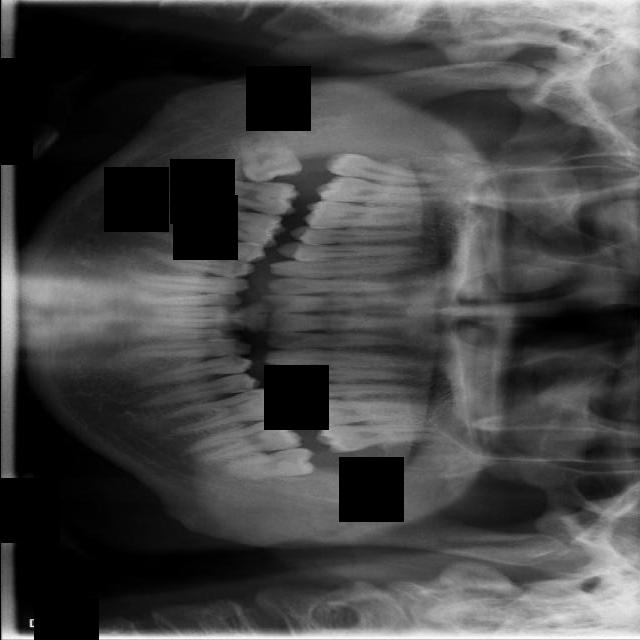3M ESPE Implant: (323, 150, 439, 192)
73: (10, 626, 19, 632)
BioHorizons Implant: (313, 419, 453, 454)
Biomet 3i Implant: (221, 447, 317, 484)
Blue Sky Bio Implant: (185, 414, 303, 466)
Caries: (317, 177, 445, 204)
Implant: (178, 172, 300, 217)
Keystone Dental Implant: (234, 124, 305, 189)
